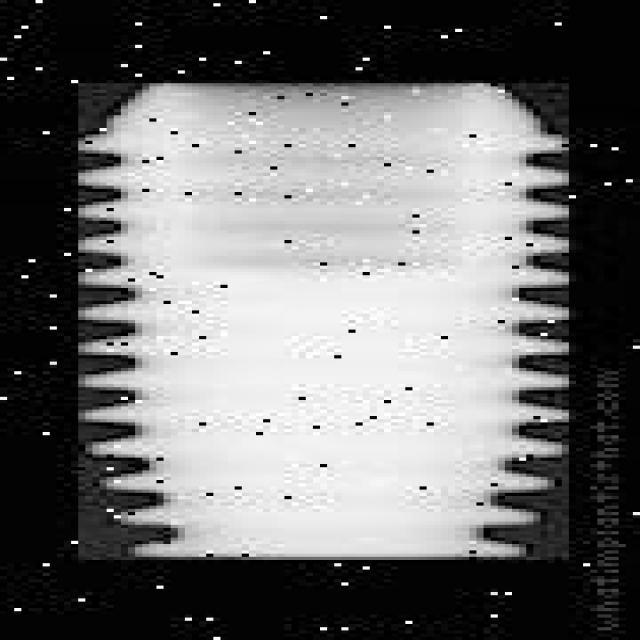OsseoLink Implant: (78, 83, 569, 560)
